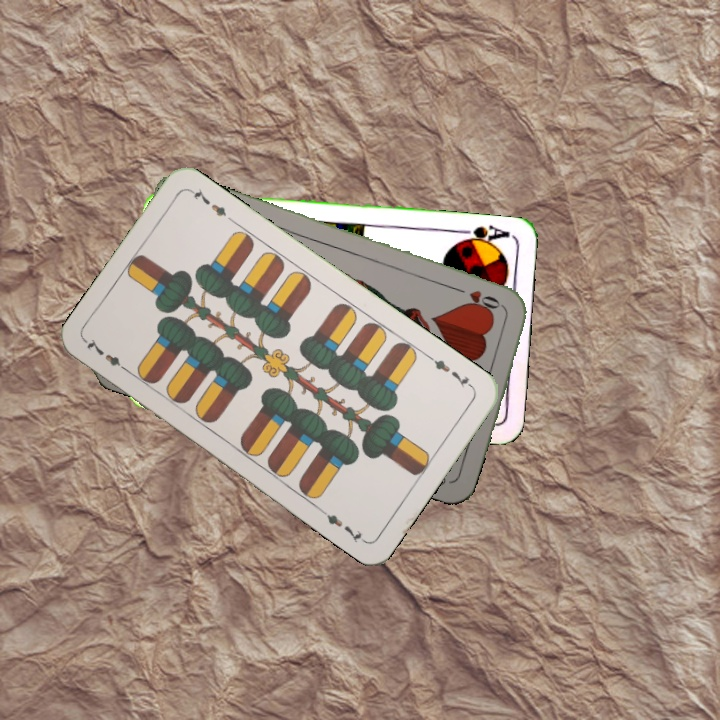E7: (81, 334, 133, 376), (424, 352, 476, 392)
HO: (451, 283, 508, 313)
SA: (455, 221, 515, 249)
